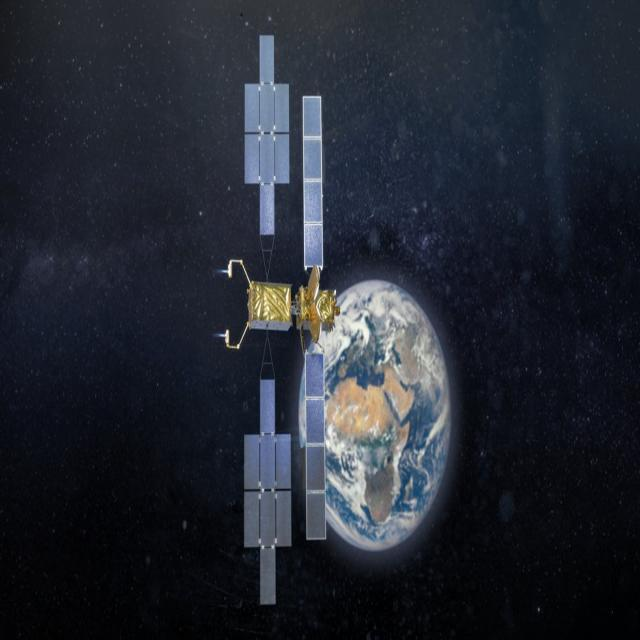medium_debris: (225, 0, 348, 635)
